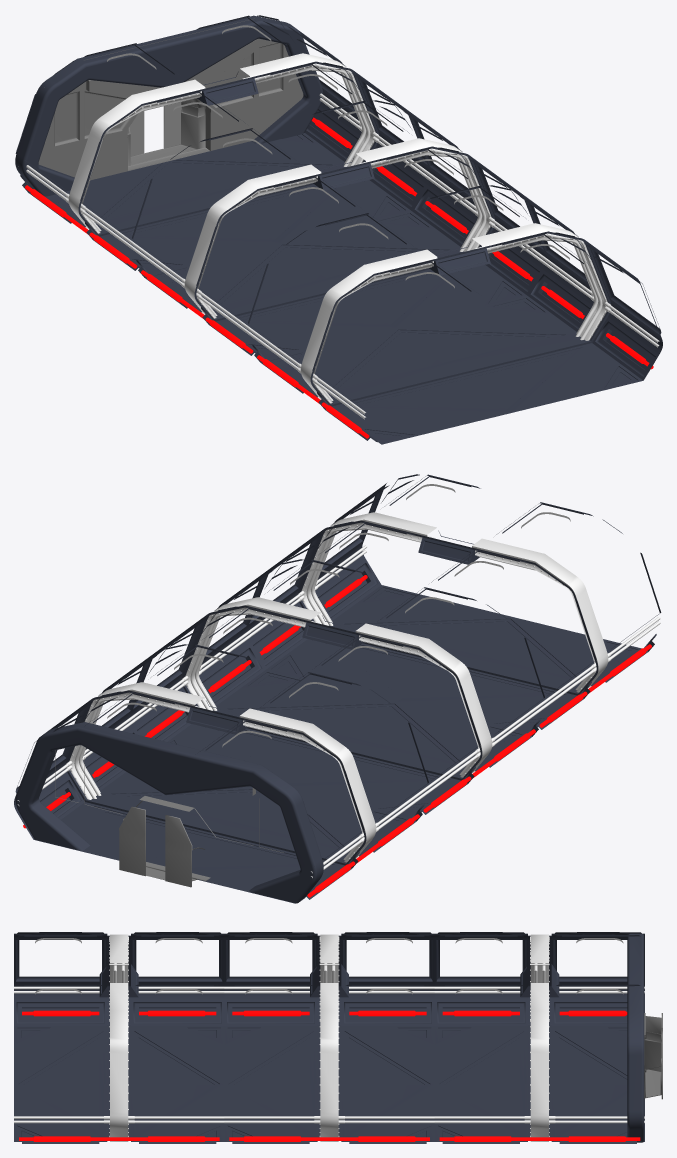
The picture shows the model from 3 angles, top to bottom: view 1: azimuth 30°, elevation 25°; view 2: azimuth 150°, elevation 25°; view 3: azimuth 270°, elevation 25°; orthographic projection. The views are drawn at different scales.
Parts seen in each view (by area): view 1: Floor, Room, Pillars, Door, Pillar, Red_Lights, TopLights, Right_Door.001; view 2: Floor, Room, Pillars, Pillar, Red_Lights, Right_Door.001, Left_Door, TopLights, Door; view 3: Floor, Room, Pillars, Red_Lights, Pillar, Door, TopLights.
Boxes of the visible parts, x1,y1,x2,y2 form: Floor: (45, 133, 642, 444); Room: (15, 15, 662, 442); Pillars: (26, 53, 659, 419); Door: (18, 18, 303, 180); Pillar: (15, 15, 323, 196); Red_Lights: (25, 117, 653, 438); TopLights: (107, 25, 569, 288); Right_Door.001: (130, 102, 181, 155); Floor: (34, 585, 641, 903); Room: (14, 474, 661, 900); Pillars: (17, 512, 660, 878); Pillar: (15, 722, 323, 903); Red_Lights: (23, 575, 651, 897); Right_Door.001: (119, 806, 191, 886); Left_Door: (165, 815, 192, 887); TopLights: (107, 484, 570, 747); Door: (55, 750, 283, 881); Floor: (14, 1026, 644, 1141); Room: (14, 932, 644, 1143); Pillars: (14, 934, 644, 1141); Red_Lights: (19, 1010, 640, 1141); Pillar: (627, 933, 644, 1142); Door: (644, 1013, 661, 1101); TopLights: (35, 938, 623, 994).
Bounding box in the file's own units: 5.92 × 2.39 × 12.18.
